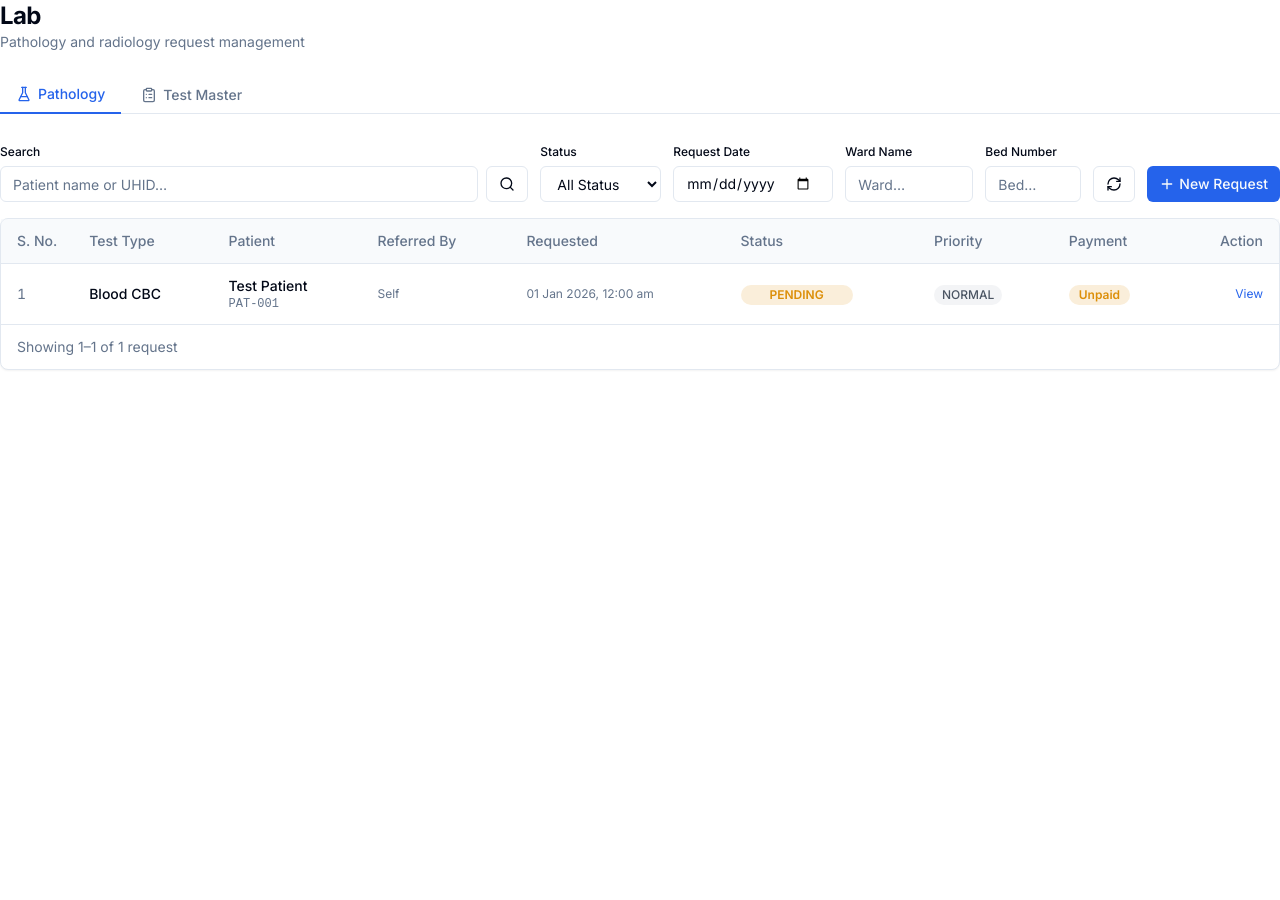
Scenario: EditRequestModal — pathology › shows Edit Request button inside detail panel for PENDING requests when user has edit permission
Note: Row only exposes View — Edit lives inside the detail panel
Click the button "View" at (1249, 294), box x1=1235 y1=286 x2=1263 y2=302
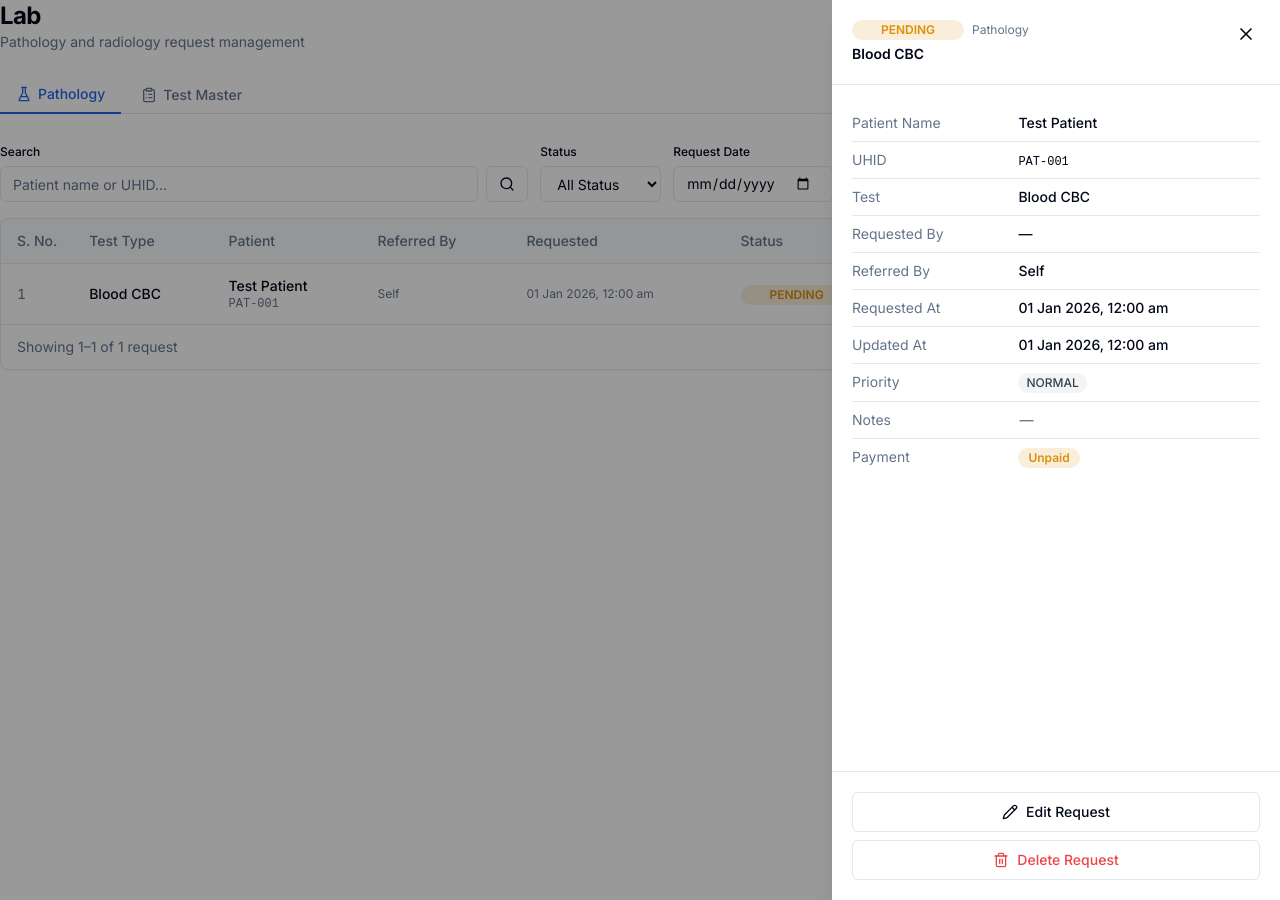
Check: the button "Edit Request" is shown, box x1=852 y1=792 x2=1260 y2=832
